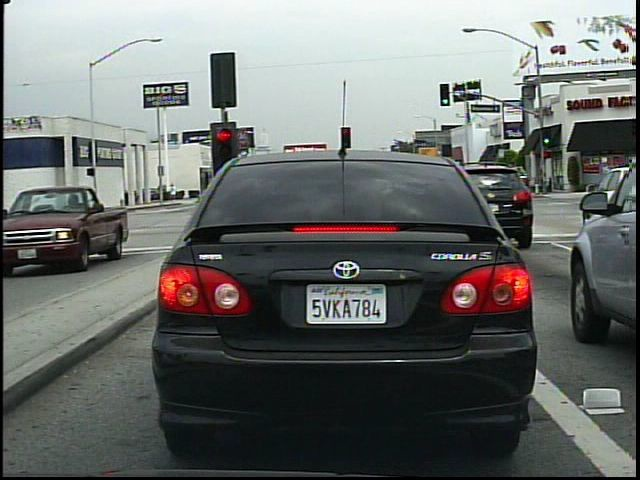person: (168, 180, 180, 206)
